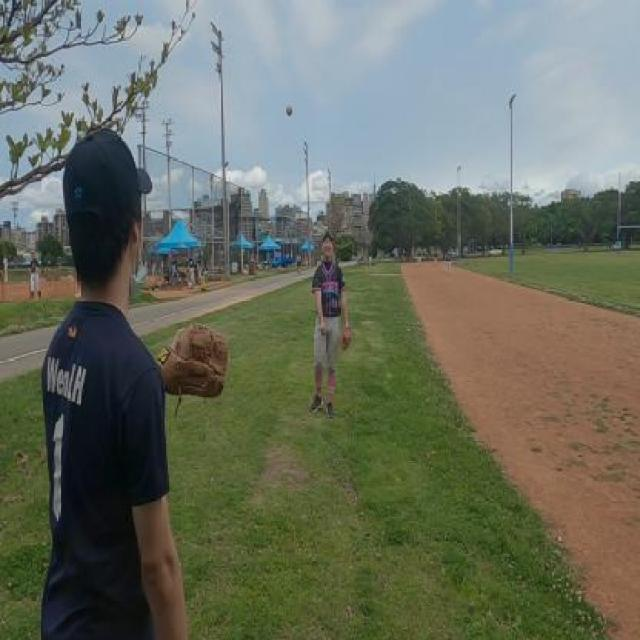baseball: (285, 104, 293, 116)
